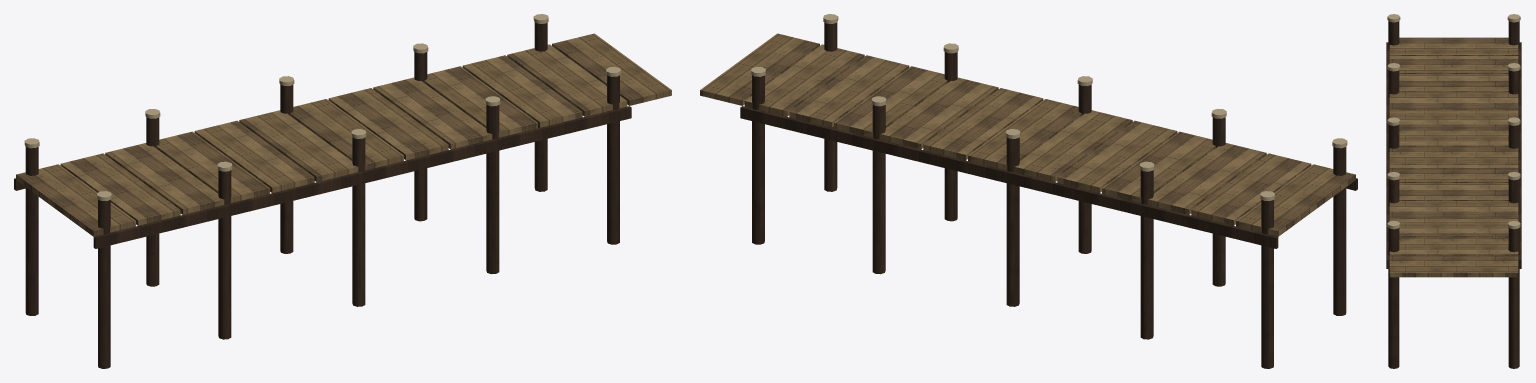
The model's file is jetty.gltf.
The picture shows the model from 3 angles, left to right: view 1: azimuth 30°, elevation 25°; view 2: azimuth 150°, elevation 25°; view 3: azimuth 270°, elevation 25°; orthographic projection. The views are drawn at different scales.
Parts seen in each view (by area): view 1: jetty_mesh; view 2: jetty_mesh; view 3: jetty_mesh.
Boxes of the visible parts, x1,y1,x2,y2 form: jetty_mesh: (14,14,671,368); jetty_mesh: (700,14,1357,368); jetty_mesh: (1386,14,1521,368).
Bounding box in the file's own units: 12.95 × 3.68 × 3.16.
Materials: 3 (2 with a texture image).
